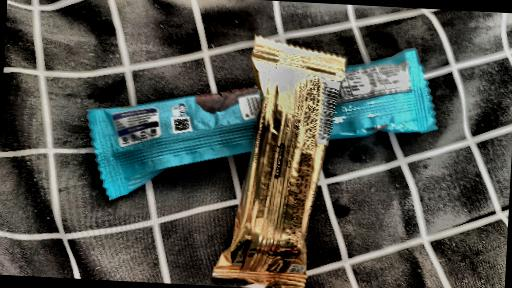dilan: (76, 33, 443, 191)
top: (242, 12, 343, 288)
